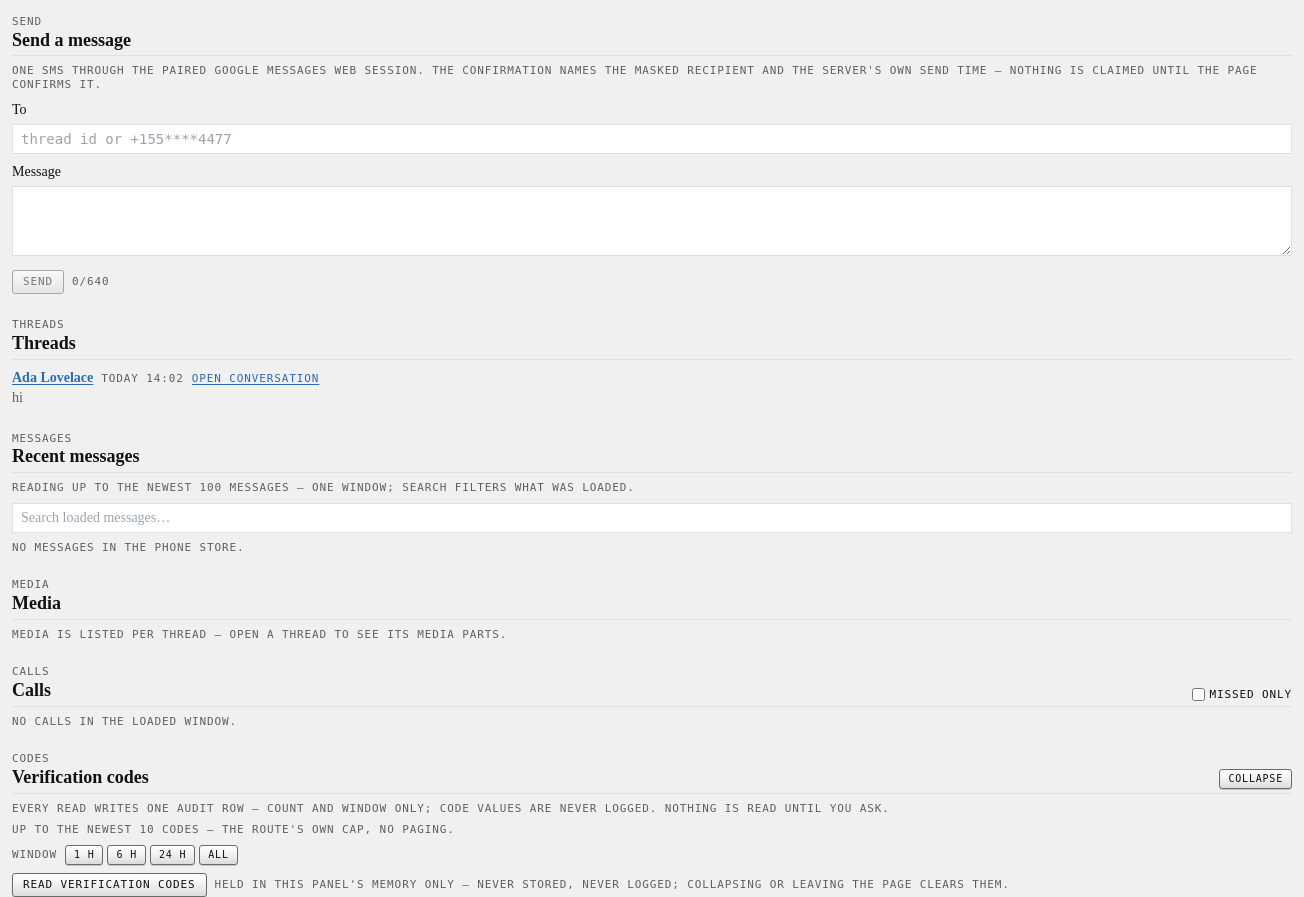
Test: codes panel — masking, reveal, copy › renders every code MASKED by default (last two characters only)
(page scrolled)
Click the button with test id "phone-codes-read": {"x": 109, "y": 885} [12,873,207,896]
(page scrolled)
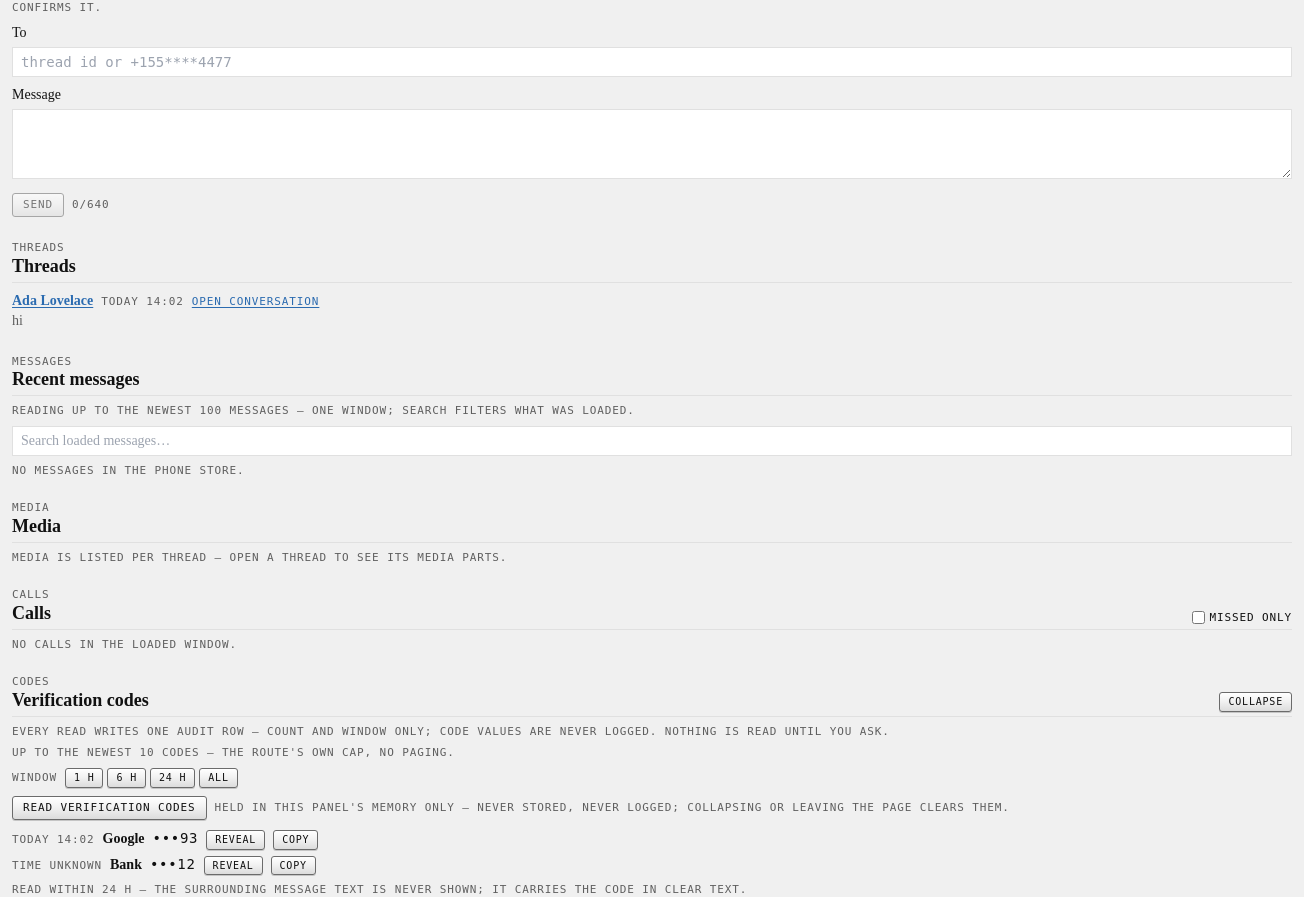
Result: the text with test id "phone-code-value" reads "•••93" at [152,830,198,846]
